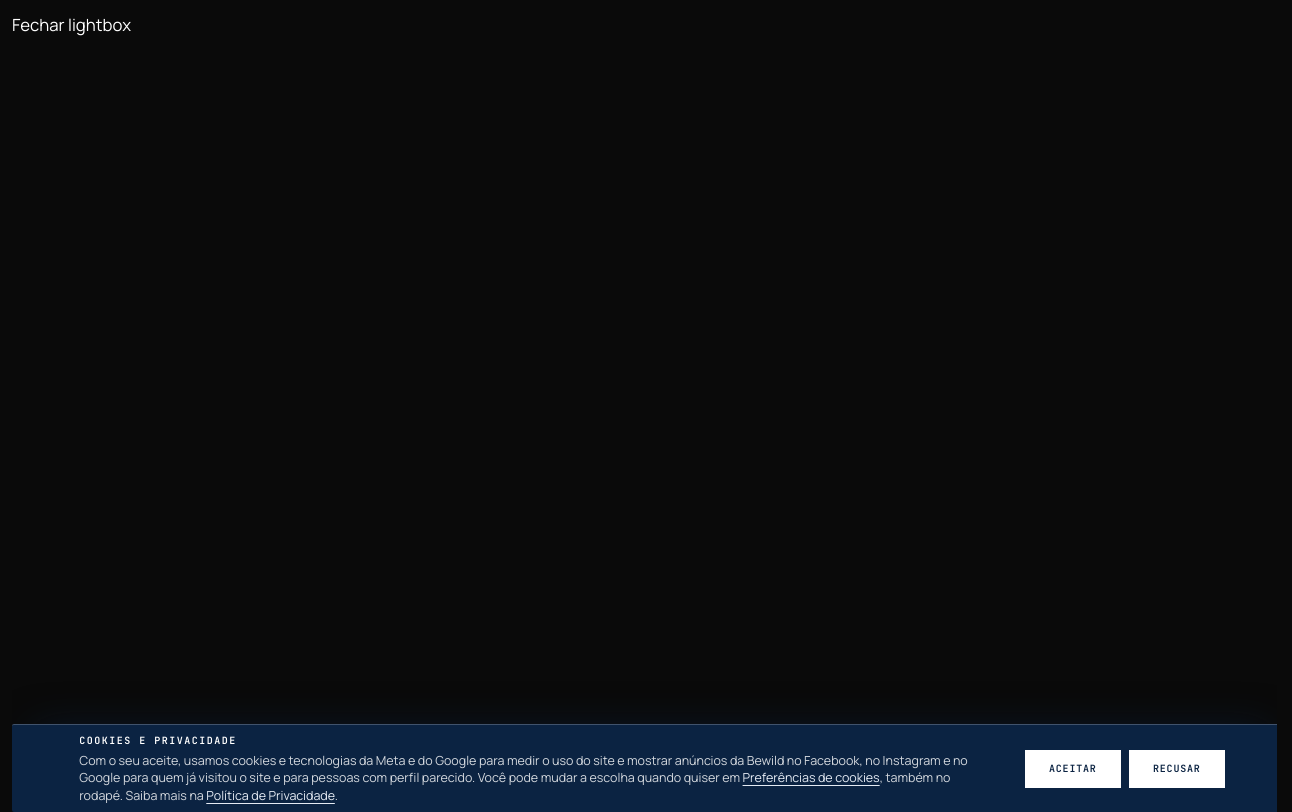
CookieBanner › publica a altura em --cookie-banner-h enquanto aberto e tira ao decidir (o CTA fixo sobe e não fica coberto)
The image size is (1292, 812).
Step 1. Click the button "Aceitar" → (1073, 768), box [1025,750,1121,788]
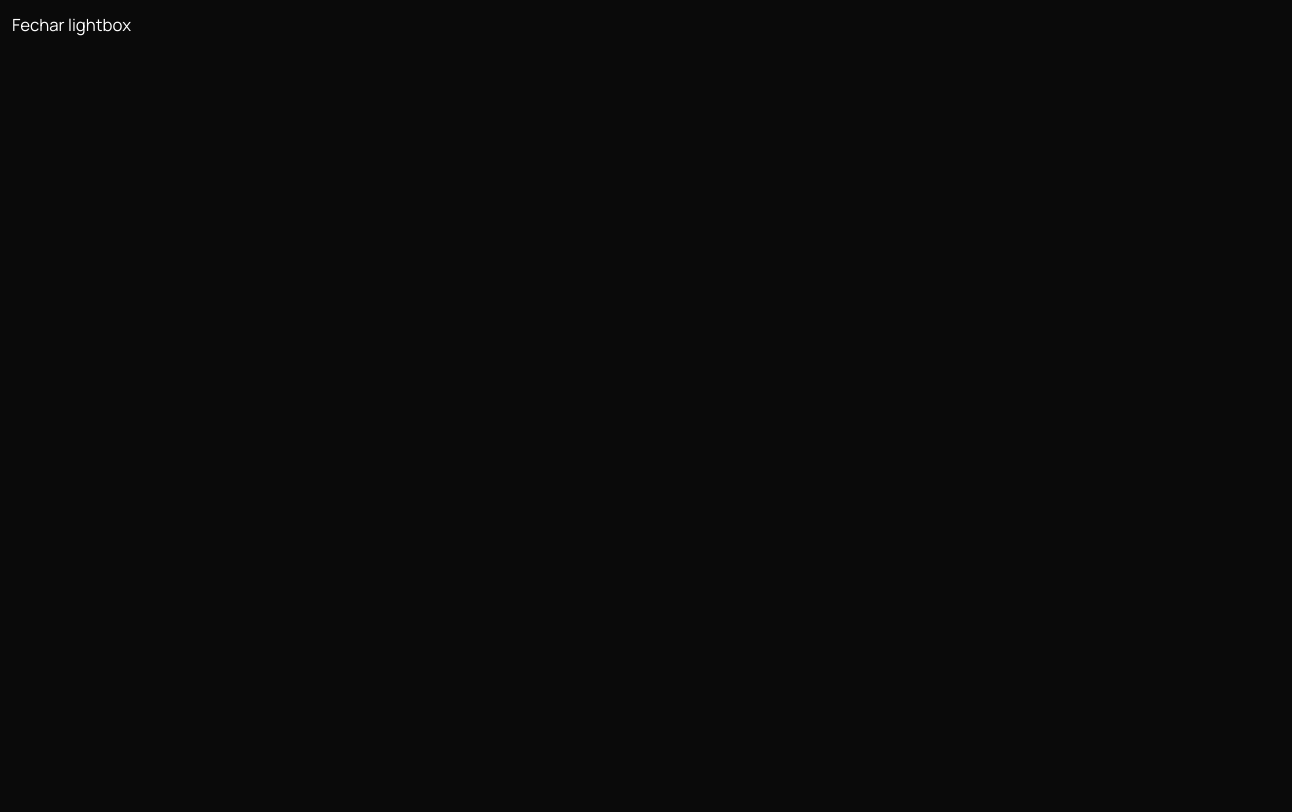
Expected: the element with class "cookie-banner" is gone
